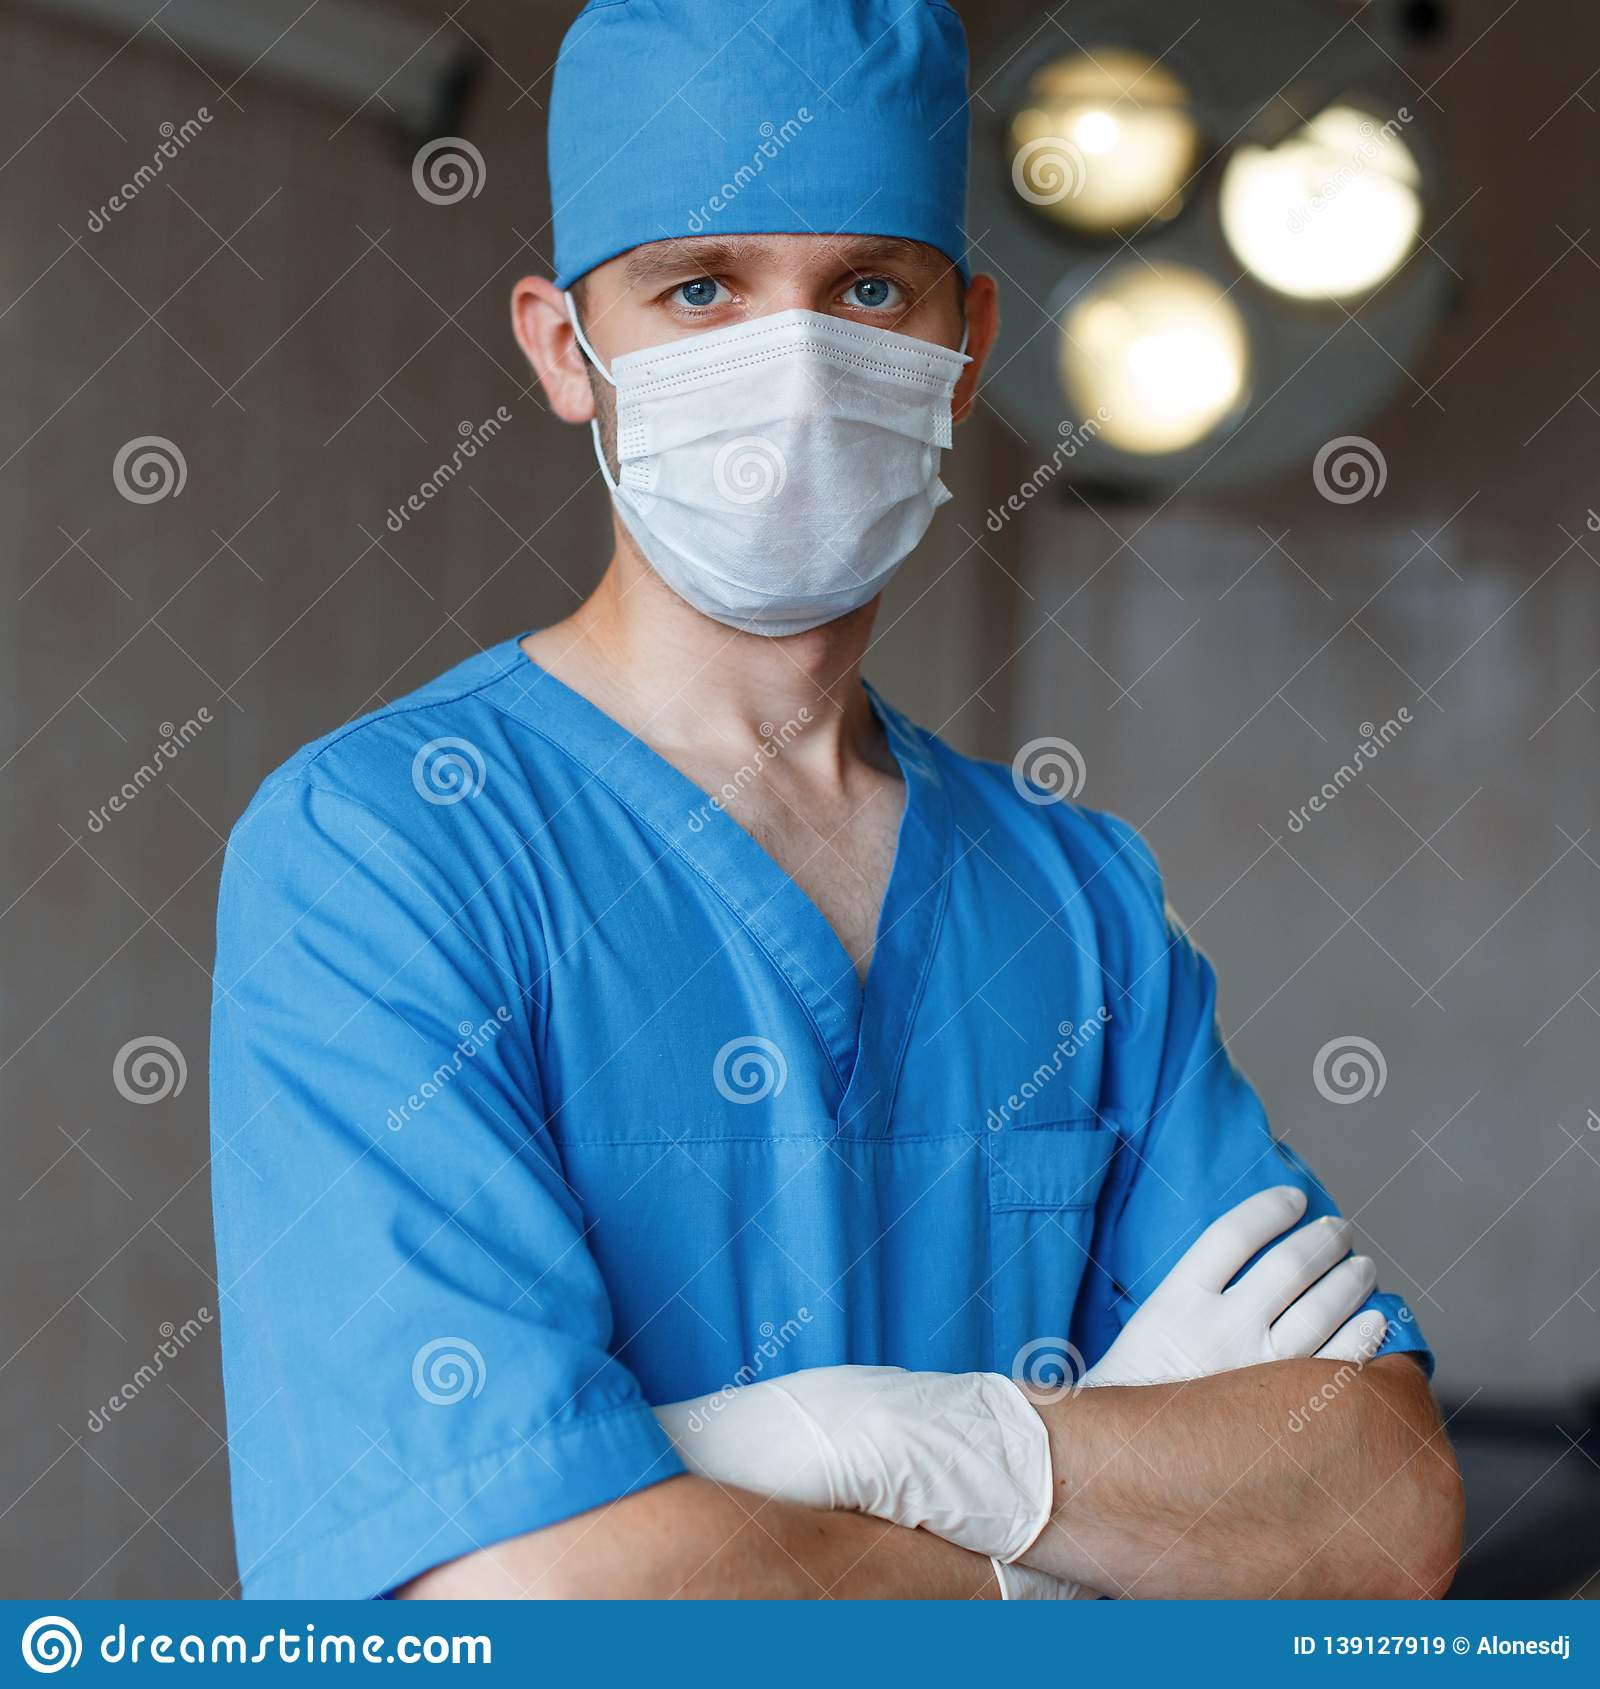mask: (611, 317, 982, 644)
